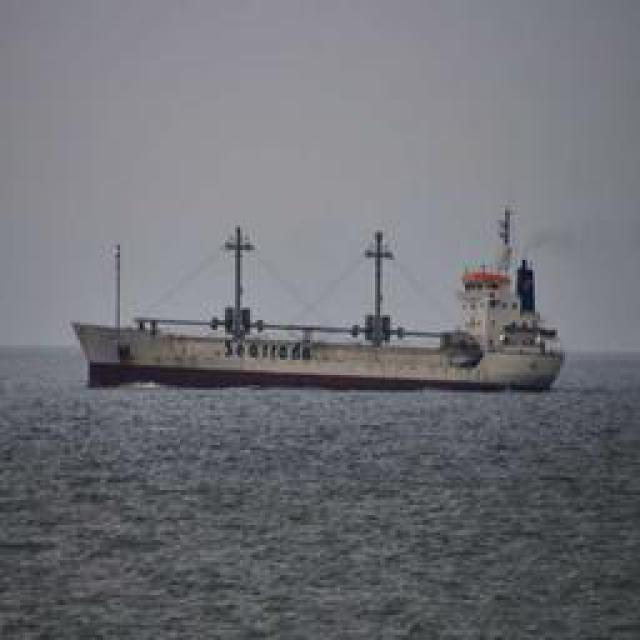Ship: (71, 214, 571, 397)
